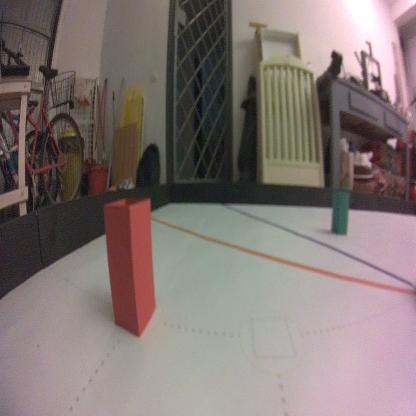green: (330, 187, 350, 239)
red: (102, 192, 158, 341)
